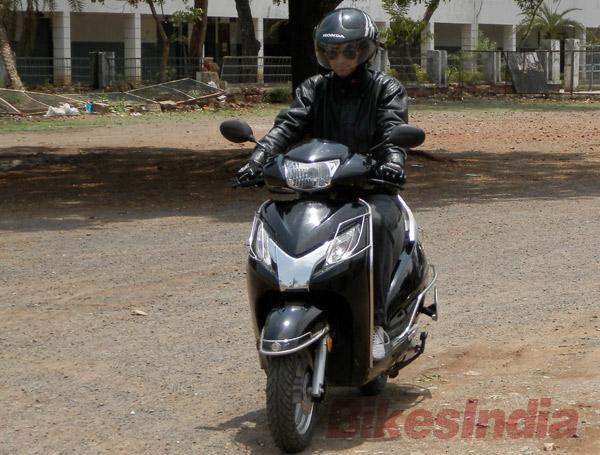helmet: (312, 6, 380, 80)
